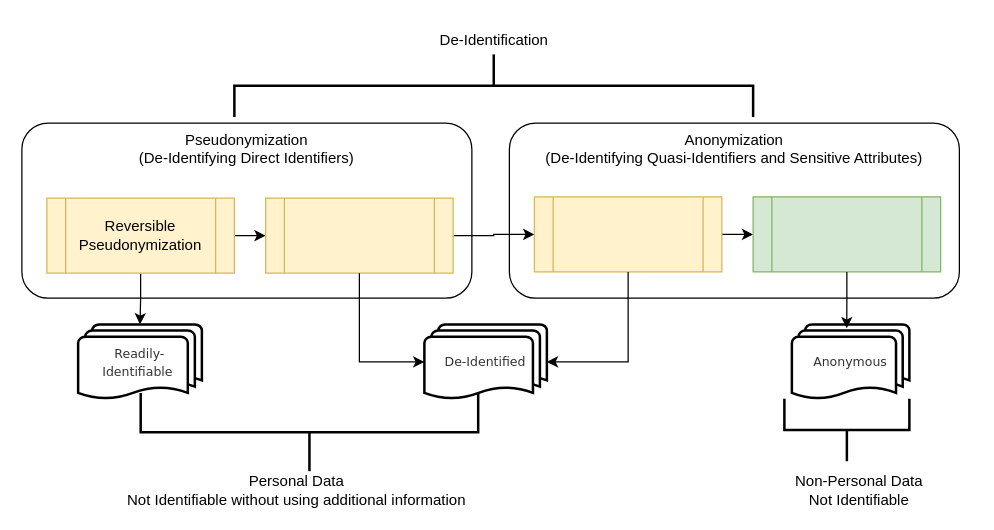
Some shapes in this 994 by 530 pixel diagram are drawn without their labels. Each missing label, with the centre of its shape:
Anonymization （Negligible Risk): the point at 846,234
Anonymization （Non-negligible risk): the point at 627,234
Irreversible Pseudonymization: the point at 358,235
